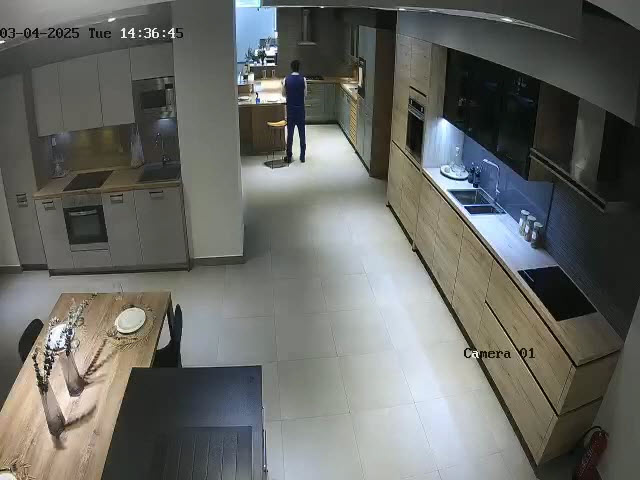employee: (281, 59, 307, 163)
